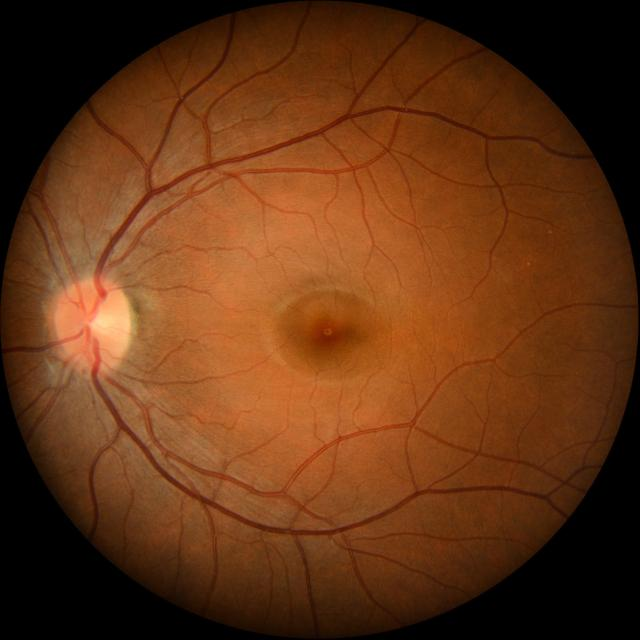OC: (88, 311, 110, 338)
OD: (53, 276, 132, 368)
